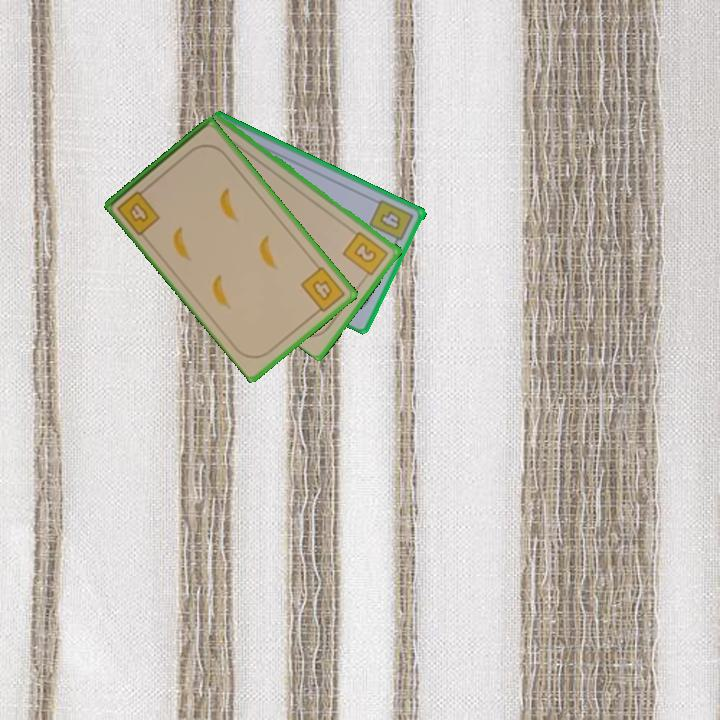2b: (340, 228, 391, 282)
4b: (297, 263, 348, 318), (113, 183, 163, 238), (366, 196, 417, 249)
